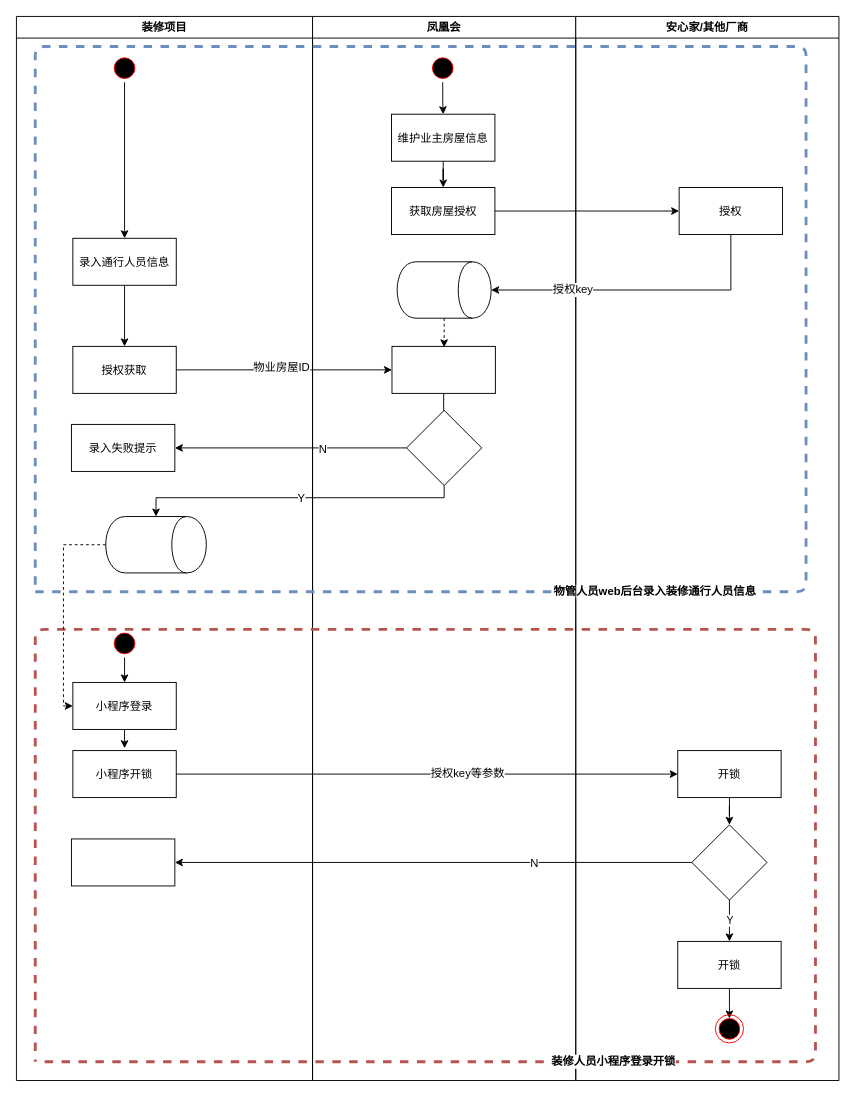
This 855x1097 diagram has some shape labels left out. The centre of each missing label's shape, as x and y in pixels:
开锁失败提示: the point at 122,862
授权key匹配: the point at 443,369
授权信息库: the point at 443,289
是否匹配: the point at 444,447
是否有权: the point at 729,862
装修放行人员库: the point at 155,544
